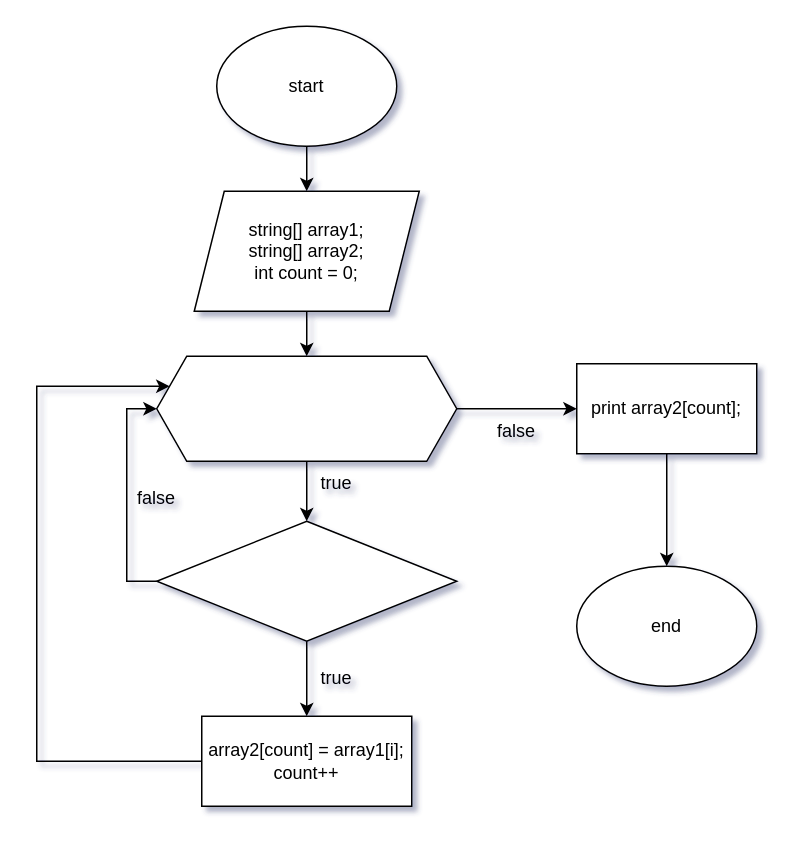
The diagram is 792 pixels wide and 842 high, and some of its shapes have lost their labels. Each missing label, with the centre of its shape:
for(int i = 0; i < array1.length; i++);: the point at 306,408
if(array1[i].length<=3);: the point at 306,580
